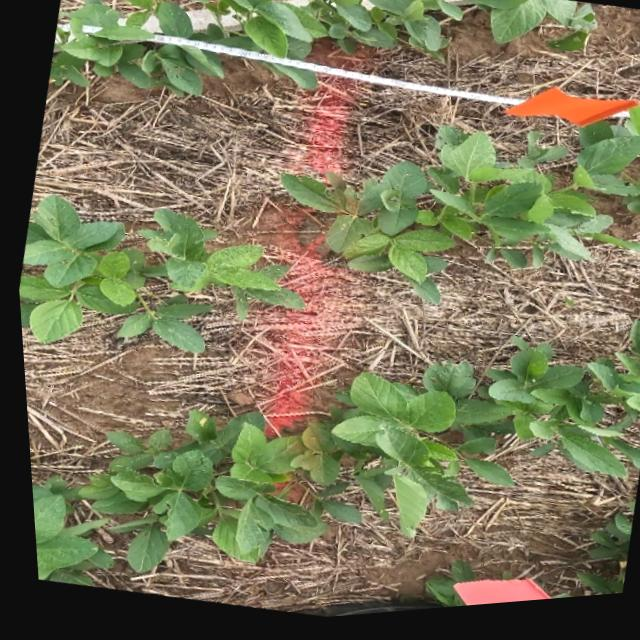soy_plant: (25, 333, 640, 581), (279, 120, 640, 308), (48, 0, 594, 97), (15, 195, 297, 352), (569, 524, 624, 605), (418, 568, 469, 614)
